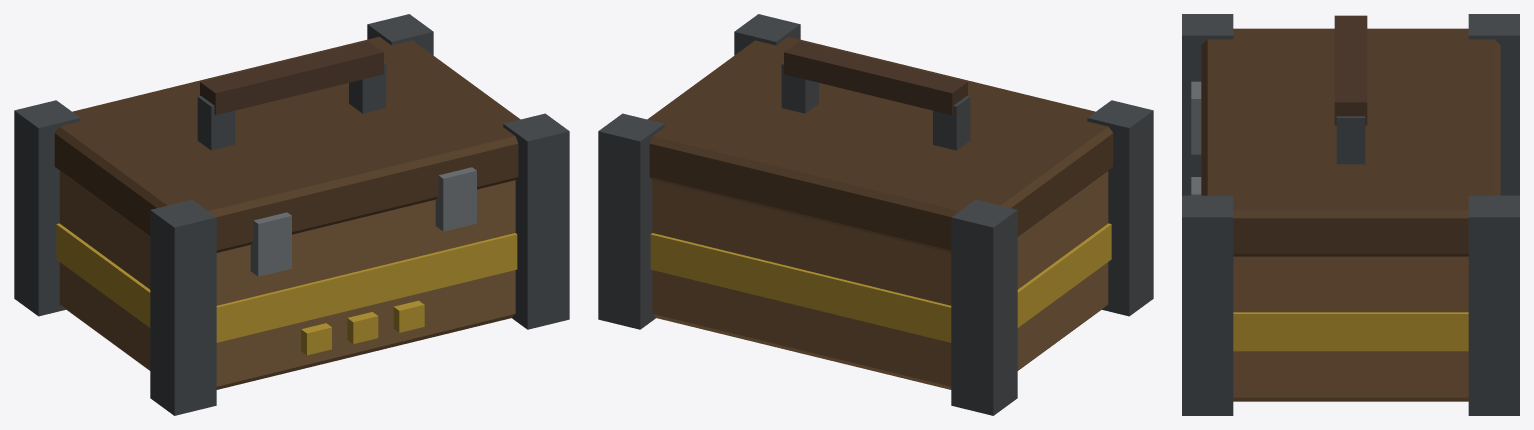
File: item_weapon_kit_mk3.glb
3 renders of one model, left to right at view 1: azimuth 30°, elevation 25°; view 2: azimuth 150°, elevation 25°; view 3: azimuth 270°, elevation 25°, orthographic. The views are drawn at different scales.
Visible parts, largest first — view 1: weapon_kit; view 2: weapon_kit; view 3: weapon_kit.
Boxes of the visible parts, x1=… form: weapon_kit: x1=14, y1=14, x2=569, y2=415; weapon_kit: x1=598, y1=14, x2=1153, y2=415; weapon_kit: x1=1182, y1=14, x2=1519, y2=415.
Bounding box in the file's own units: 0.47 × 0.275 × 0.33.
